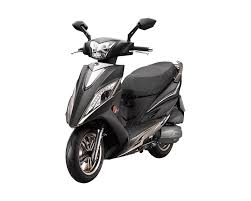motorcycle: (58, 18, 189, 184)
